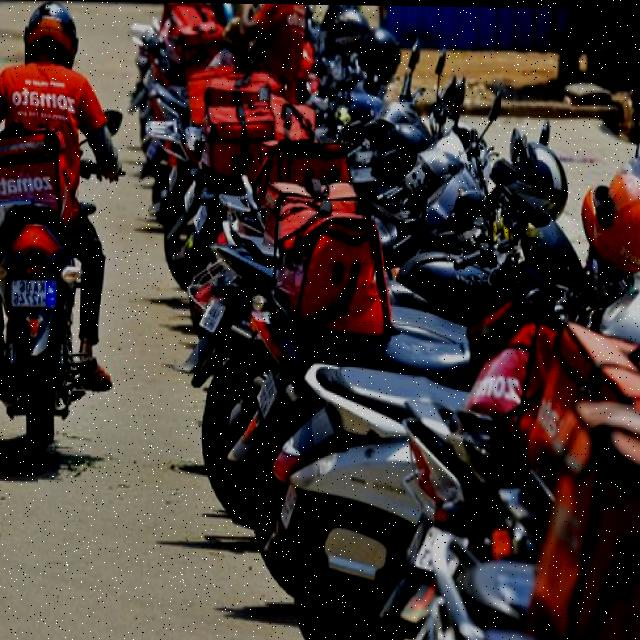plate: (6, 272, 59, 311), (198, 292, 225, 333)
